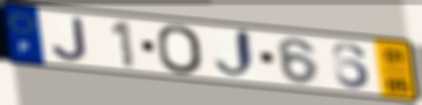1: (109, 19, 137, 69)
6: (275, 36, 320, 86), (331, 42, 372, 90)
J: (212, 27, 260, 82), (50, 15, 91, 63)
O: (154, 23, 207, 76)
